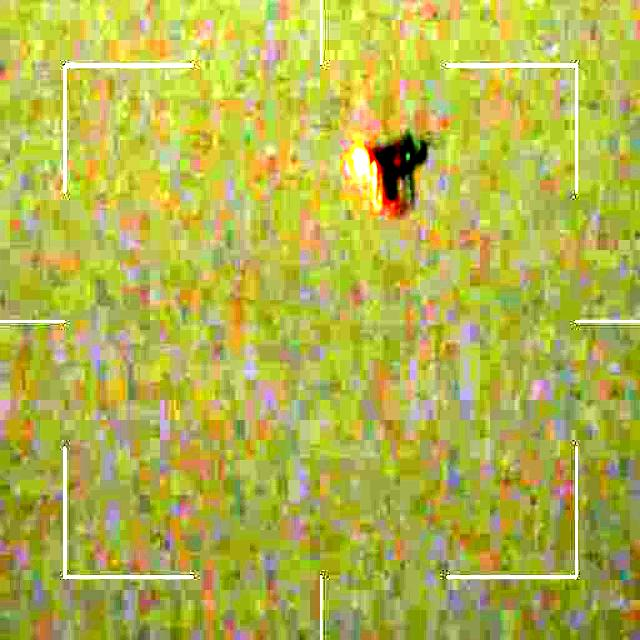bird: (345, 124, 434, 210)
